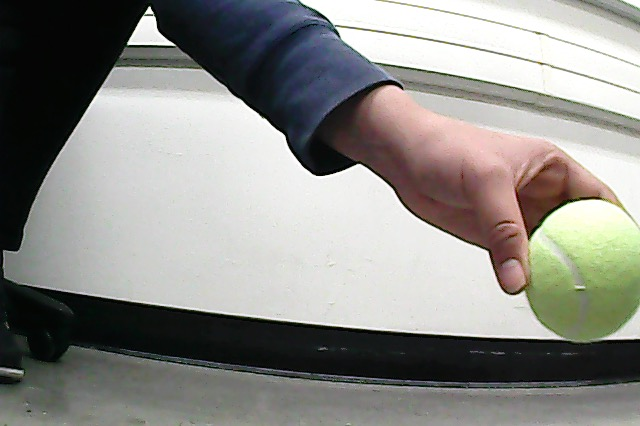ball: (522, 194, 640, 345)
